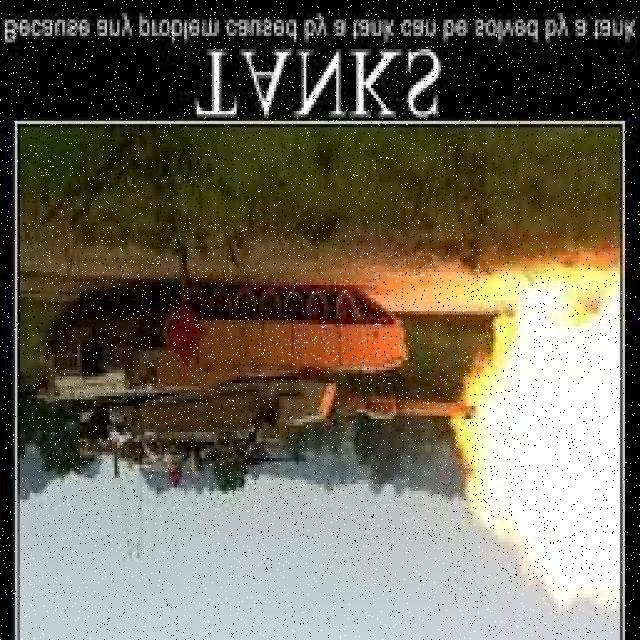MIL_MBT: (46, 225, 494, 553)
